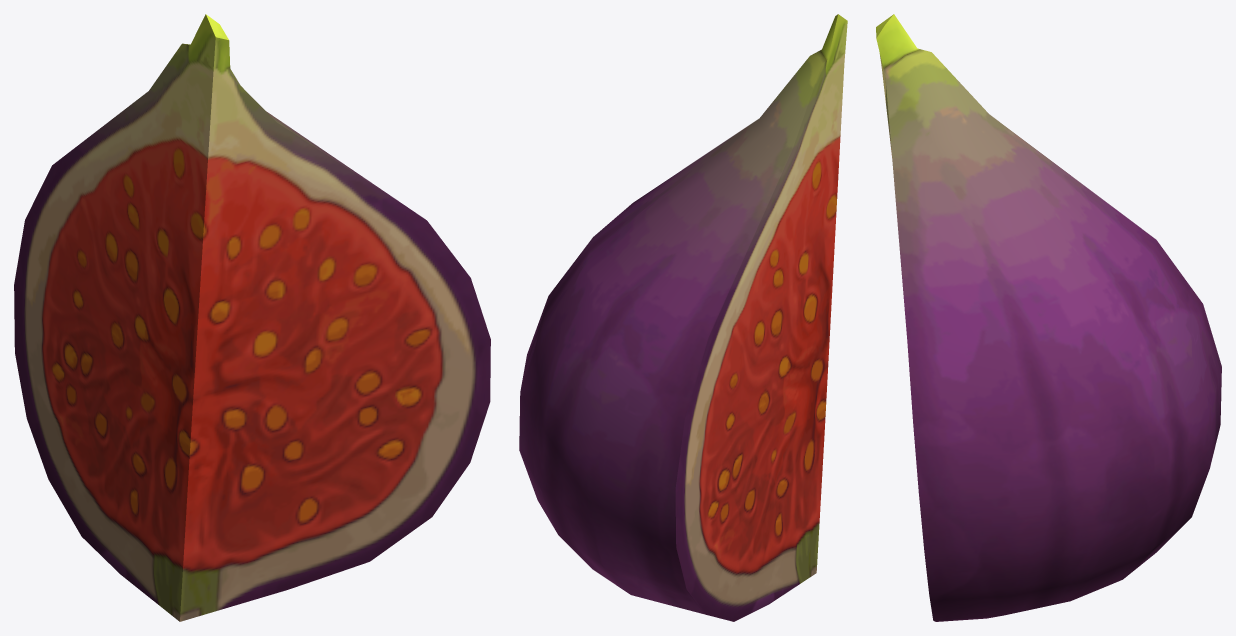
File: SM_FigSliceD.fbx
3 views of the same model, side by side, from view 1: azimuth 30°, elevation 25°; view 2: azimuth 150°, elevation 25°; view 3: azimuth 270°, elevation 25° (orthographic). The views are drawn at different scales.
Parts seen in each view (by area): view 1: SM_FigSliceD; view 2: SM_FigSliceD; view 3: SM_FigSliceD.
Boxes of the visible parts, box(x1,y1,x2,y2) form: SM_FigSliceD: box(14, 14, 490, 621); SM_FigSliceD: box(519, 14, 847, 621); SM_FigSliceD: box(876, 14, 1221, 621).
Bounding box in the file's own units: 5.74 × 11.26 × 6.52.
